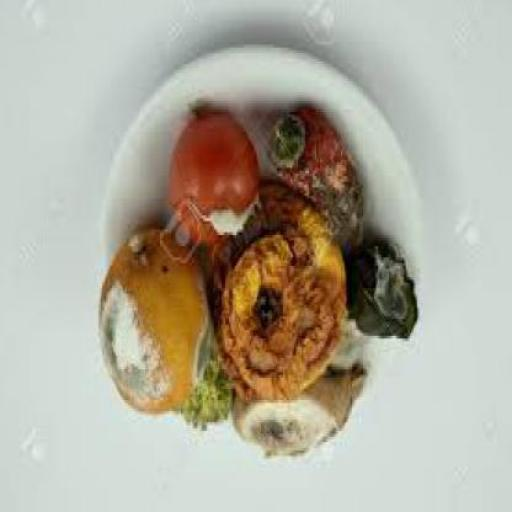biodegradable: (204, 190, 352, 403), (103, 230, 216, 419), (268, 112, 367, 246), (172, 114, 260, 255), (234, 367, 368, 459), (349, 243, 421, 344), (178, 336, 236, 432), (328, 330, 365, 375)
